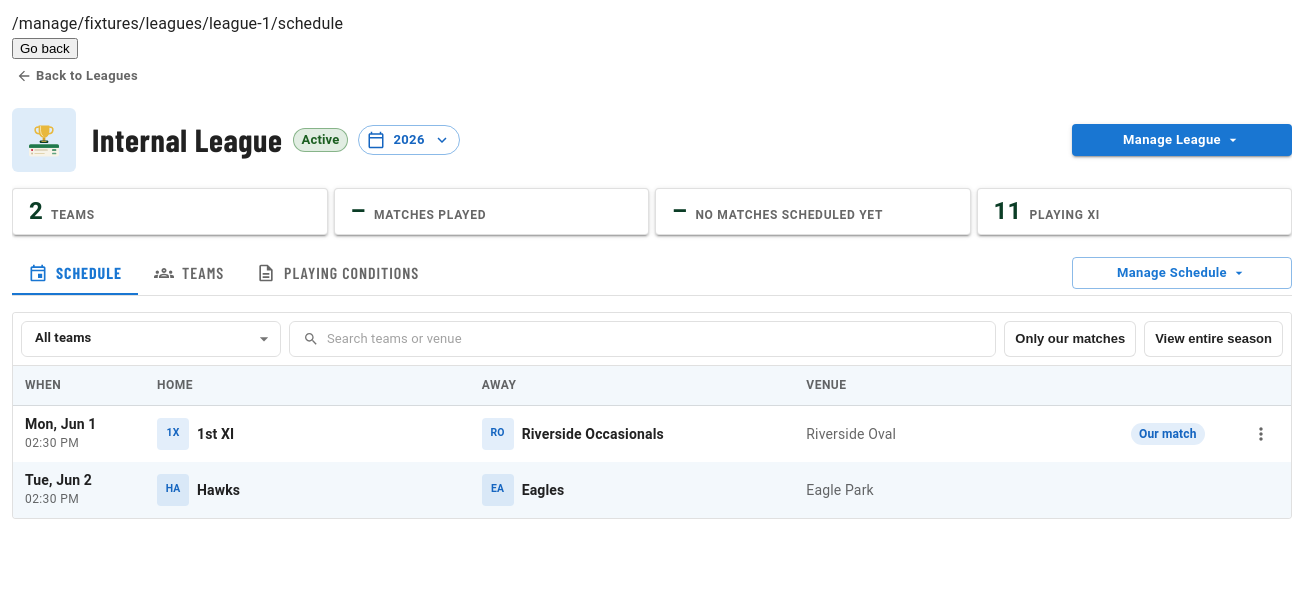
LeagueScheduleView › filters (091) › hides played matches by default and View entire season brings them back
Expected: the number of rows with test id "fixture-row" is 2, [13,406,1291,462]; [13,462,1291,518]
Click the button "View entire season" at (1214,339), box [1144,321,1283,357]
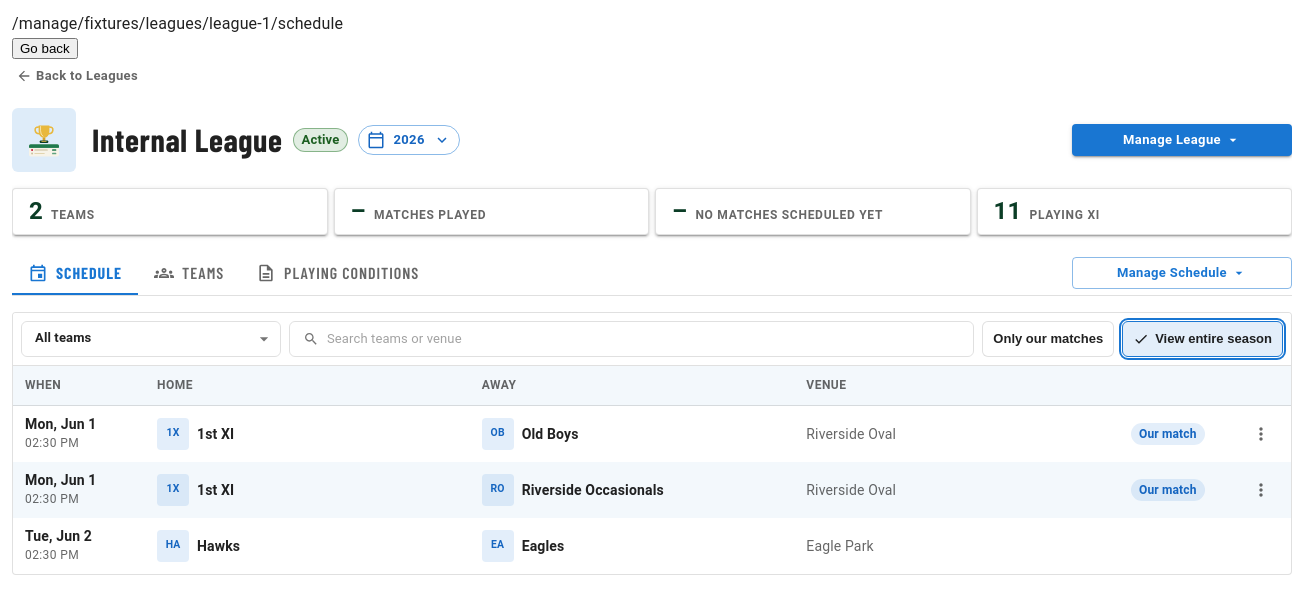
Expected: the number of rows with test id "fixture-row" is 3, [13,406,1291,462]; [13,462,1291,518]; [25,528,874,562]
